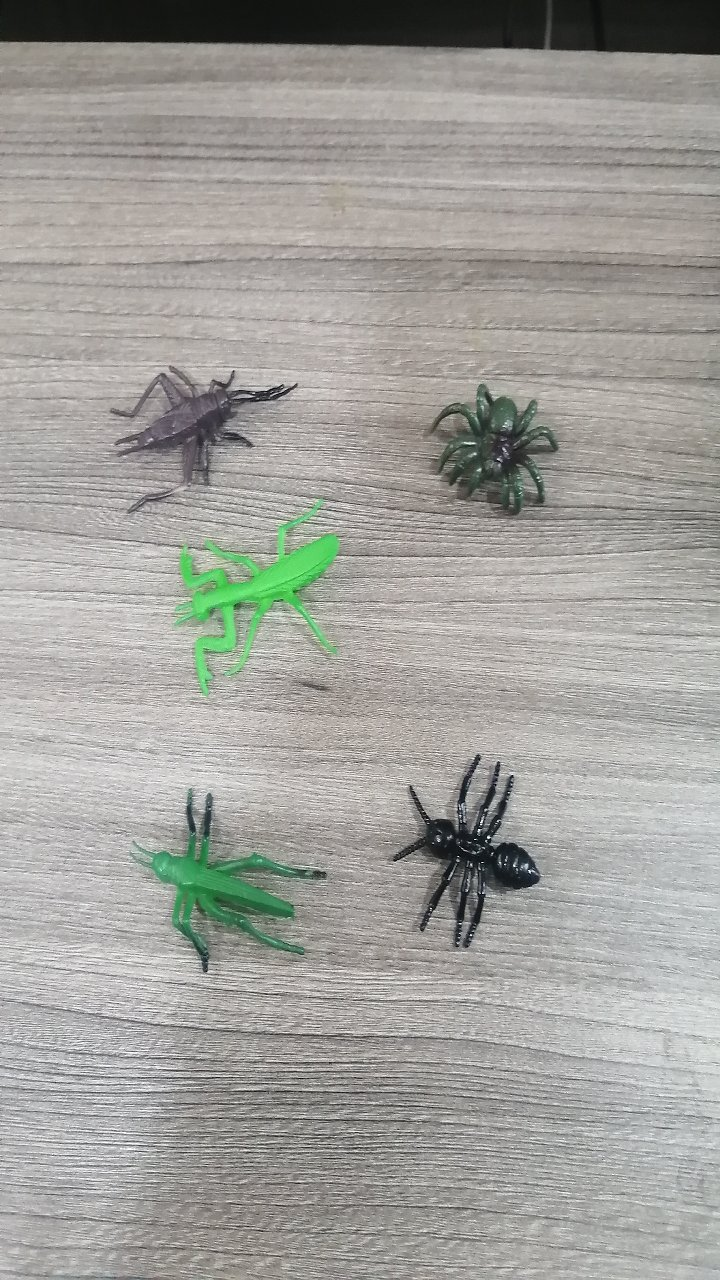intruso: (94, 768, 343, 1015), (134, 495, 361, 702), (371, 728, 568, 966), (71, 328, 294, 519), (395, 345, 578, 565)
